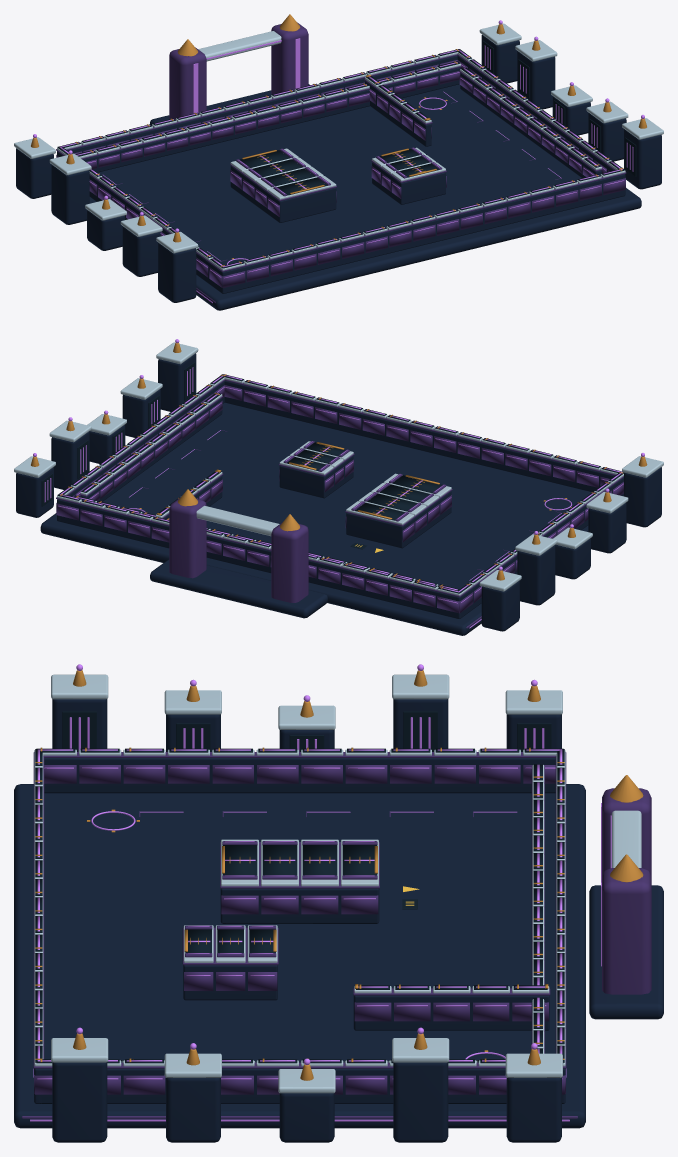
File: citadel.gltf
The picture shows the model from 3 angles, top to bottom: view 1: azimuth 30°, elevation 25°; view 2: azimuth 150°, elevation 25°; view 3: azimuth 270°, elevation 25°; orthographic projection. The views are drawn at different scales.
Visible parts, largest first — view 1: Raised orbital deck, SOLID 1 border, SOLID 7 reflector, Citadel spire, Citadel spire.001, Exterior dock pylon.004, SOLID 0 border, Exterior dock pylon.001, SOLID 4 cover, Exterior dock pylon.009, Exterior dock pylon.003, Exterior dock pylon (+27 smaller); view 2: Raised orbital deck, SOLID 1 border, SOLID 0 border, Horizon installation platform, Citadel spire, Citadel spire.001, SOLID 4 cover, Exterior dock pylon.001, Exterior dock pylon.004, Exterior dock pylon, Exterior dock pylon.003, SOLID 5 cover (+24 smaller); view 3: Raised orbital deck, SOLID 2 border, Citadel spire.001, SOLID 3 border, Horizon installation platform, Exterior dock pylon.006, Exterior dock pylon.009, SOLID 6 cover, Exterior dock pylon.005, Exterior dock pylon.008, SOLID 4 cover, Exterior dock pylon.007 (+53 smaller).
Boxes of the visible parts, x1,y1,x2,y2 form: Raised orbital deck: [89, 84, 641, 310]; SOLID 1 border: [222, 174, 625, 293]; SOLID 7 reflector: [82, 67, 460, 172]; Citadel spire: [169, 47, 206, 119]; Citadel spire.001: [271, 22, 308, 94]; Exterior dock pylon.004: [158, 242, 196, 302]; SOLID 0 border: [68, 55, 457, 153]; Exterior dock pylon.001: [51, 164, 89, 224]; SOLID 4 cover: [230, 166, 336, 222]; Exterior dock pylon.009: [624, 129, 661, 189]; Exterior dock pylon.003: [122, 226, 160, 276]; Exterior dock pylon: [16, 148, 53, 198]; Raised orbital deck: [40, 402, 591, 635]; SOLID 1 border: [224, 380, 614, 492]; SOLID 0 border: [57, 499, 461, 618]; Horizon installation platform: [150, 559, 327, 618]; Citadel spire: [271, 522, 308, 602]; Citadel spire.001: [169, 497, 206, 578]; SOLID 4 cover: [346, 491, 451, 548]; Exterior dock pylon.001: [517, 545, 555, 605]; Exterior dock pylon.004: [624, 467, 661, 527]; Exterior dock pylon: [481, 581, 519, 631]; Exterior dock pylon.003: [588, 503, 626, 553]; SOLID 5 cover: [279, 455, 353, 498]; Raised orbital deck: [14, 784, 585, 1128]; SOLID 2 border: [44, 758, 555, 793]; Citadel spire.001: [602, 868, 651, 994]; SOLID 3 border: [34, 1068, 565, 1103]; Horizon installation platform: [589, 885, 663, 1019]; Exterior dock pylon.006: [393, 1062, 448, 1142]; Exterior dock pylon.009: [52, 1062, 107, 1142]; SOLID 6 cover: [353, 995, 549, 1030]; Exterior dock pylon.005: [506, 1077, 561, 1142]; Exterior dock pylon.008: [166, 1077, 220, 1142]; SOLID 4 cover: [220, 888, 379, 923]; Exterior dock pylon.007: [279, 1093, 334, 1142].
Size of the model in its own units: 25.51 by 4.66 by 18.3.
